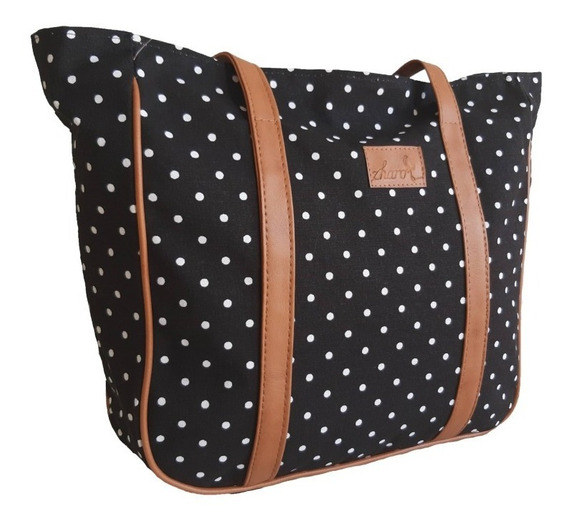cartera: (28, 26, 543, 485)
lona: (78, 65, 513, 422)
